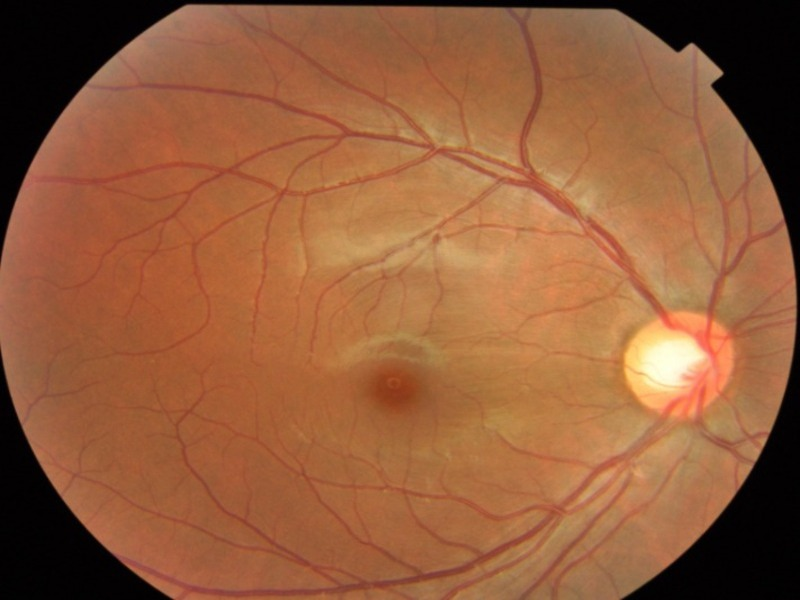Optic Cup: (638, 331, 699, 383)
Optic Disc: (624, 308, 732, 417)
